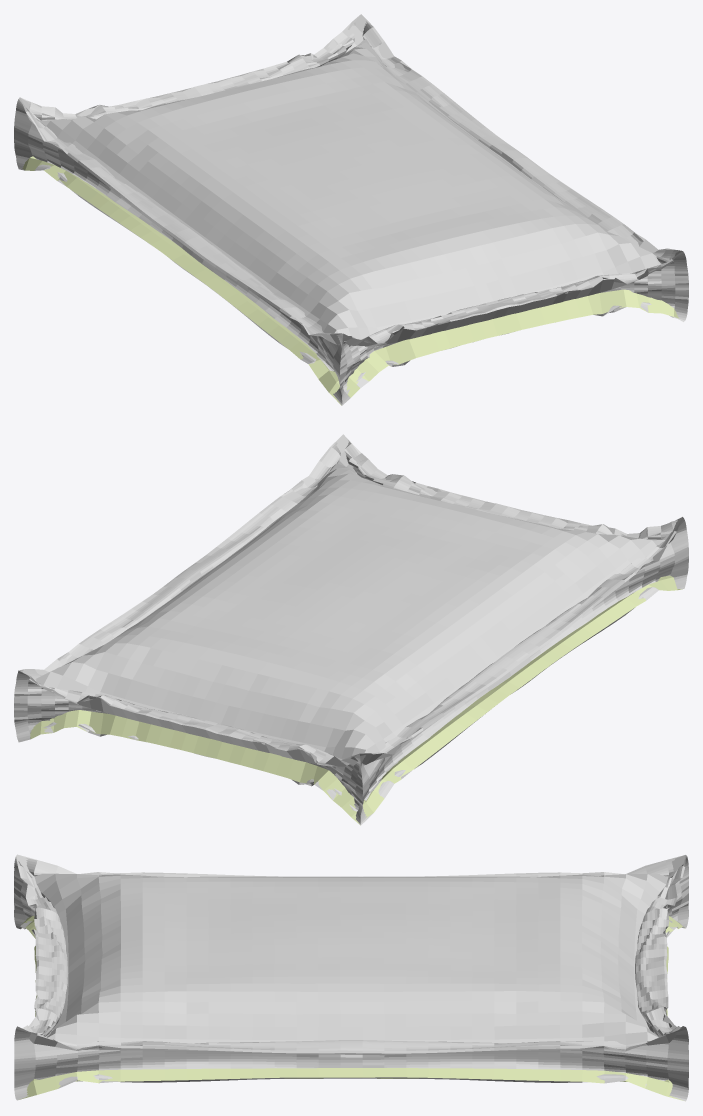
File: patri in wrap.fbx
3 views of the same model, one above another, from view 1: azimuth 30°, elevation 25°; view 2: azimuth 150°, elevation 25°; view 3: azimuth 270°, elevation 25° (orthographic). The views are drawn at different scales.
Parts seen in each view (by area): view 1: patri wrap; view 2: patri wrap; view 3: patri wrap.
Boxes of the visible parts, bbox=[...] form: patri wrap: bbox=[14, 14, 688, 405]; patri wrap: bbox=[14, 434, 688, 825]; patri wrap: bbox=[14, 854, 688, 1101].
Size of the model in its own units: 26.34 by 6.78 by 42.42.
